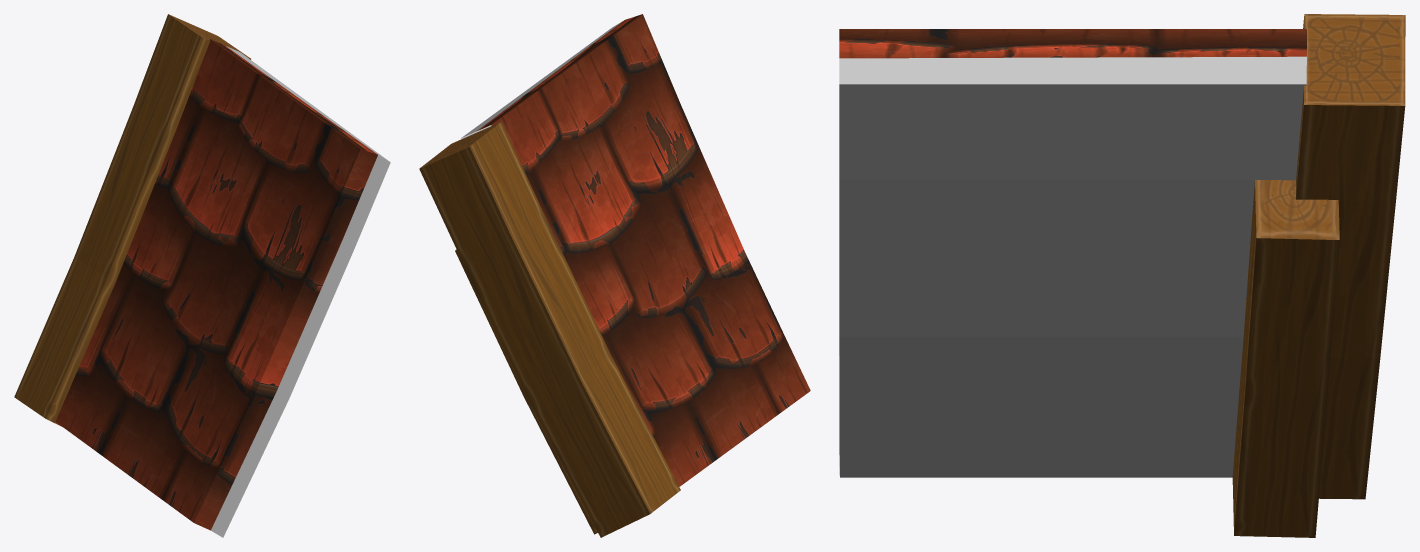
Rendered from SM_House_Roof_01_End_Top.fbx.
3 views of the same model, side by side, from view 1: azimuth 30°, elevation 25°; view 2: azimuth 150°, elevation 25°; view 3: azimuth 270°, elevation 25° (orthographic). The views are drawn at different scales.
Visible parts, largest first — view 1: SM_House_Roof_01_End_Top; view 2: SM_House_Roof_01_End_Top; view 3: SM_House_Roof_01_End_Top.
Boxes of the visible parts, x1,y1,x2,y2 form: SM_House_Roof_01_End_Top: (14,14,390,537); SM_House_Roof_01_End_Top: (419,14,810,537); SM_House_Roof_01_End_Top: (839,14,1405,537).
Size of the model in its own units: 1.22 by 2.07 by 1.78.
